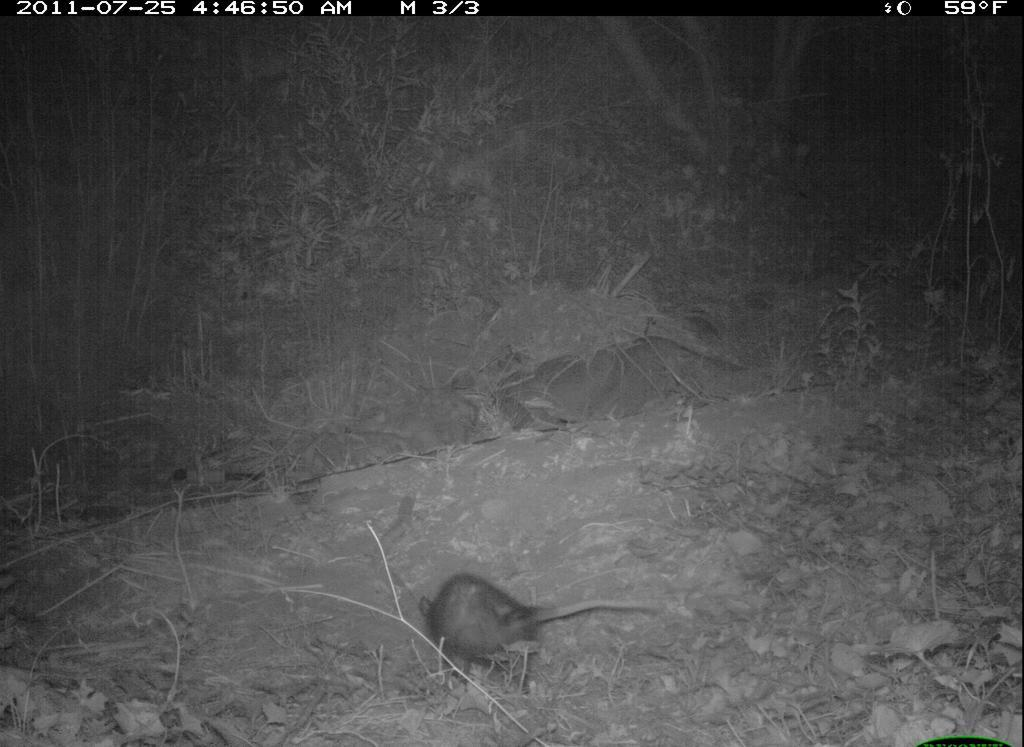opossum: (413, 568, 680, 701)
